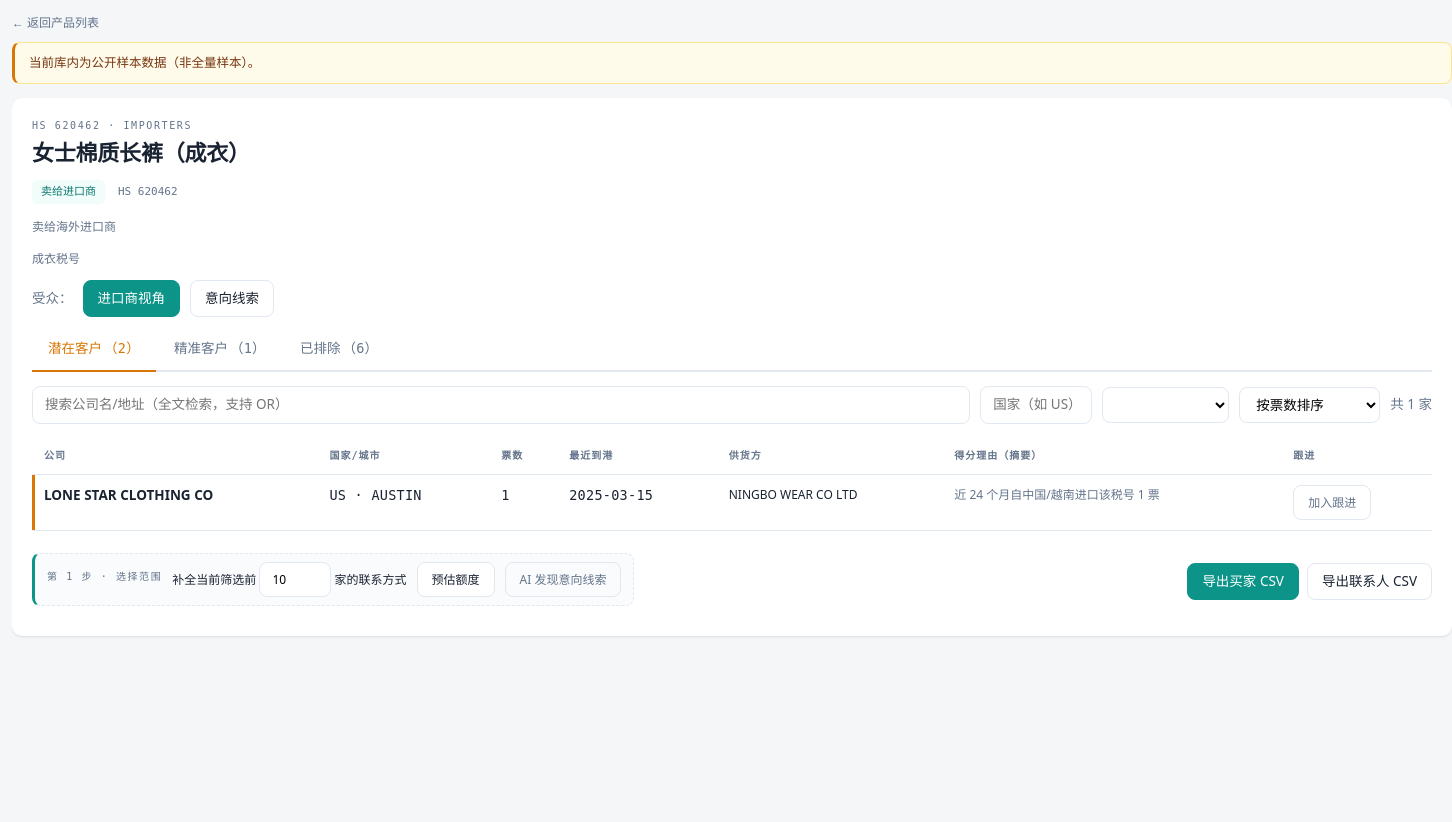
Test case: 产品详情页（用户可见结果） › 搜索的过期响应不覆盖新响应（复现：逐字符输入竞态）
Expected: the heading "女士棉质长裤（成衣）" is shown, left=32, top=137, right=250, bottom=167
# 触发一个慢请求（旧搜索词），再触发一个快请求（新搜索词）
Type "slow" into the field with test id "filter-q" at (501, 405), box left=32, top=386, right=970, bottom=424
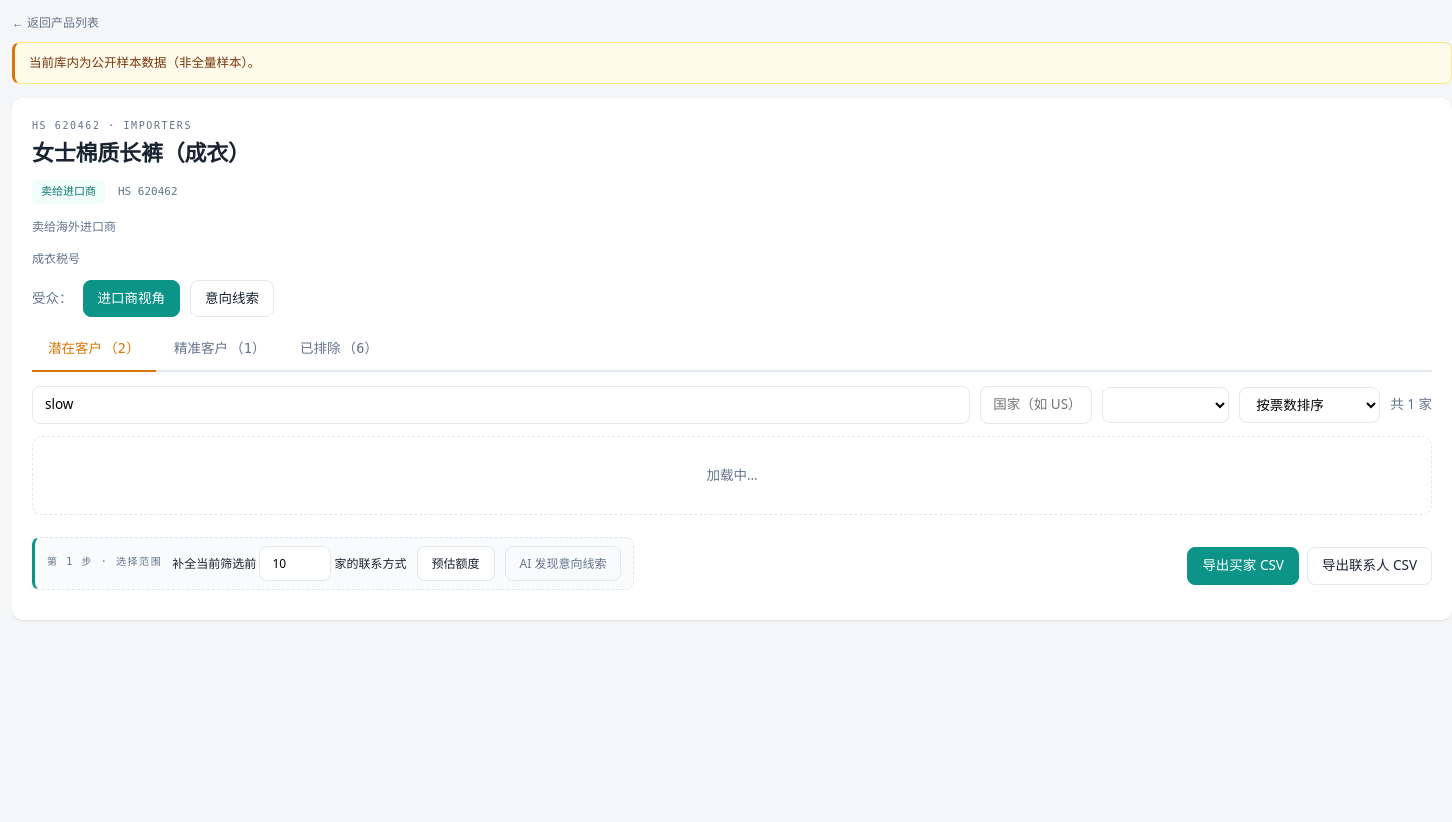
Replace the text in the field with test id "filter-q" with "fast" at (501, 405), box left=32, top=386, right=970, bottom=424
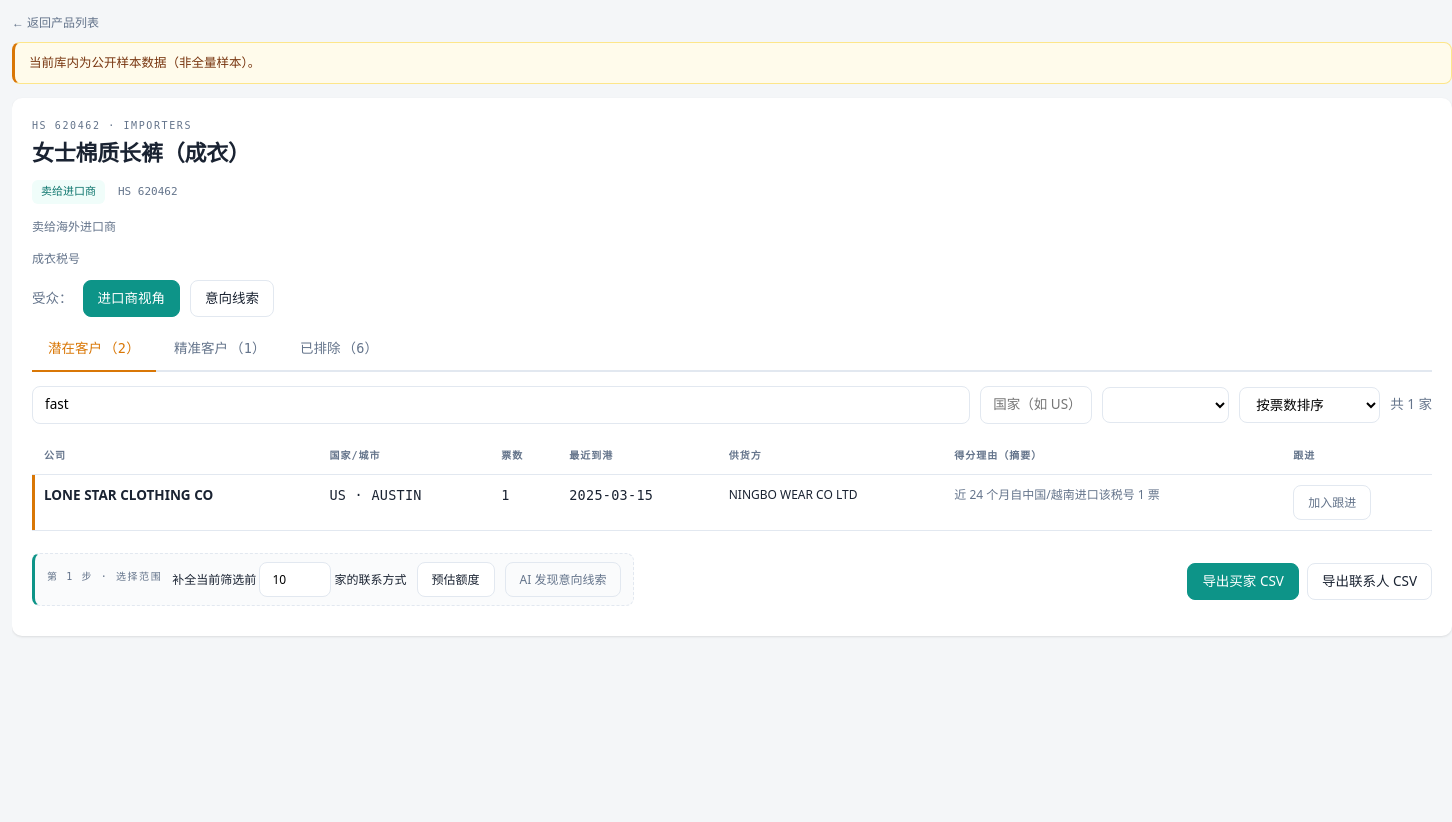
Now the text "LONE STAR CLOTHING CO" is shown, box left=44, top=486, right=213, bottom=504
